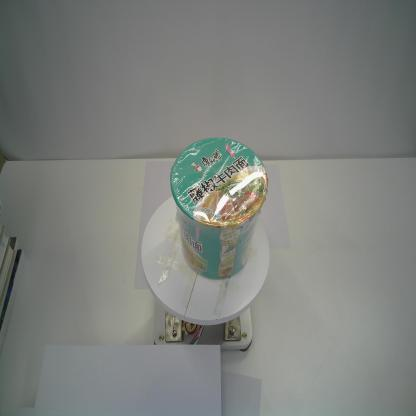Instant Noodles: (170, 137, 269, 281)
